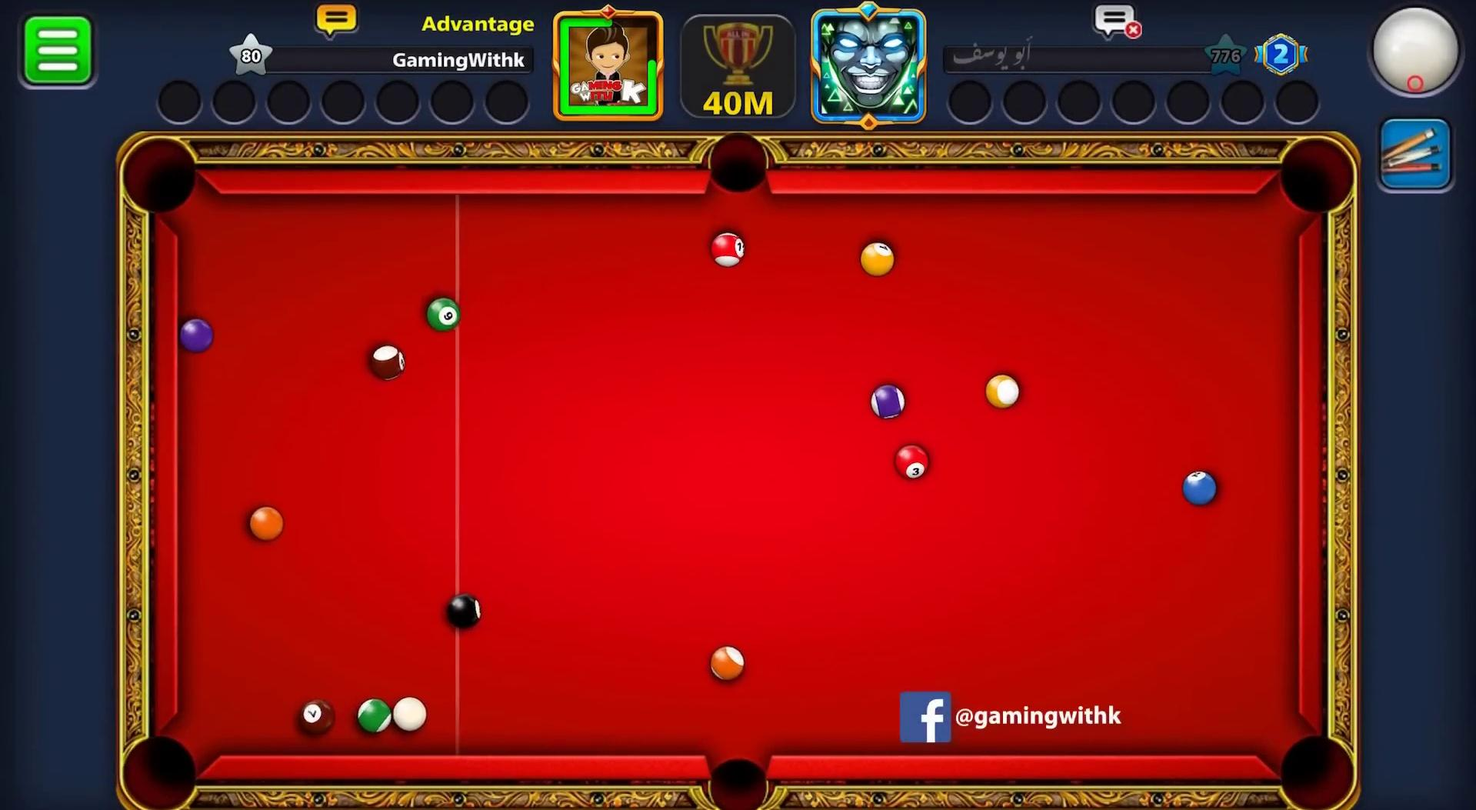Ball: (981, 364, 1026, 419), (884, 438, 936, 483), (294, 695, 341, 744), (421, 290, 467, 337), (706, 642, 755, 685), (863, 381, 911, 424), (436, 591, 485, 632), (366, 338, 408, 385), (248, 504, 290, 547), (176, 312, 217, 355), (858, 240, 898, 281), (709, 225, 747, 267), (1181, 468, 1219, 508), (355, 698, 393, 736)
Hole: (119, 121, 216, 233), (1271, 119, 1366, 228), (1261, 721, 1369, 810), (115, 715, 211, 810), (694, 729, 787, 810), (703, 119, 775, 211)
Play_Area: (178, 191, 1298, 756)
Spin: (1357, 0, 1476, 117)
White: (387, 694, 435, 738)
